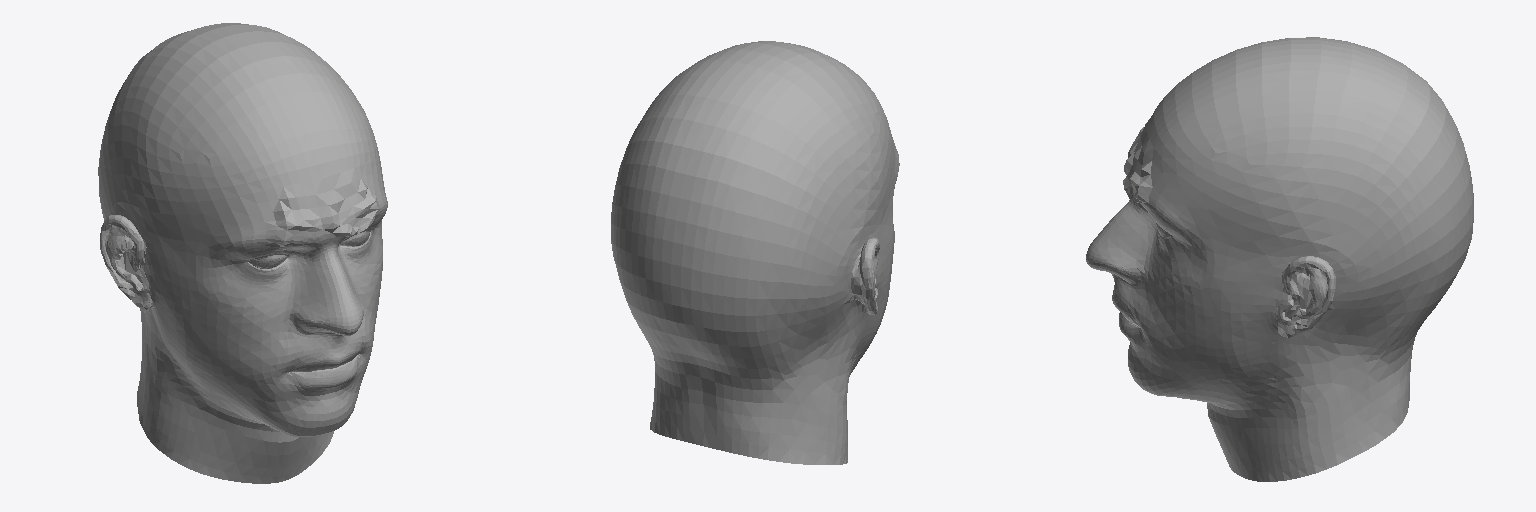
The model's file is South Asian Face2.obj.
The picture shows the model from 3 angles: view 1: azimuth 30°, elevation 25°; view 2: azimuth 150°, elevation 25°; view 3: azimuth 270°, elevation 25°; orthographic projection.
Visible parts, largest first — view 1: HeadHires; view 2: HeadHires; view 3: HeadHires.
Part boxes in pixels (x1,y1,x2,y2): HeadHires: (98, 23, 387, 483); HeadHires: (611, 41, 899, 464); HeadHires: (1086, 37, 1473, 481).
Bounding box in the file's own units: 186 × 283 × 240.